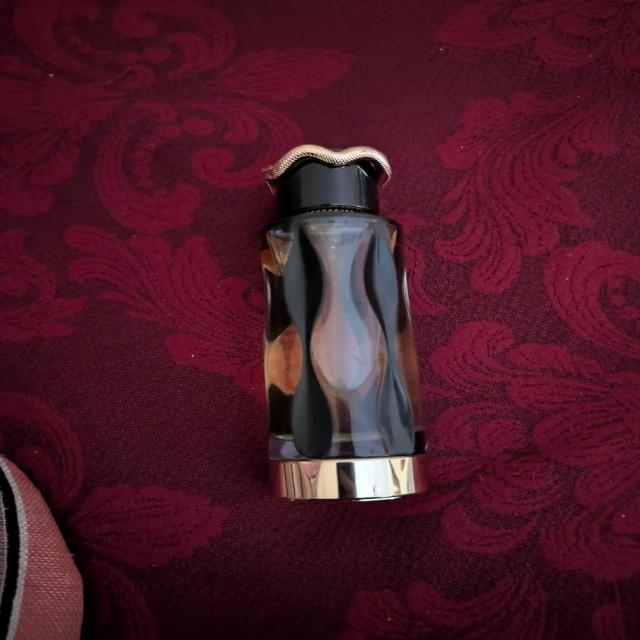Teriaq-Intense: (254, 142, 432, 504)
